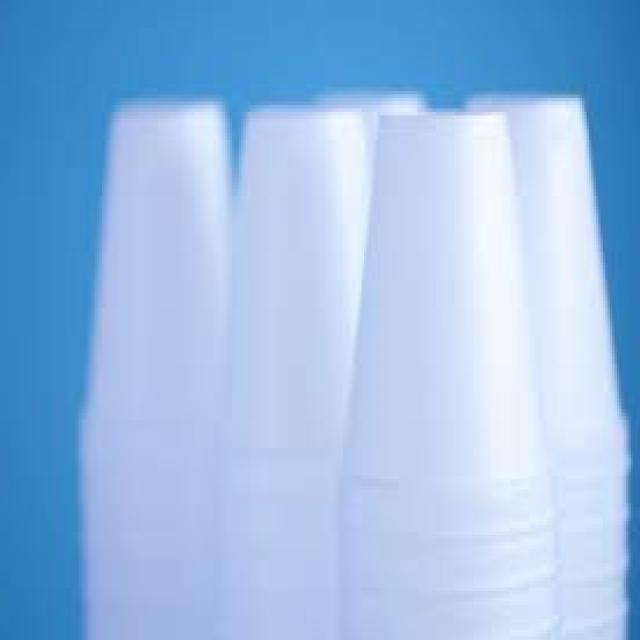paper: (350, 109, 552, 636), (83, 101, 232, 636), (362, 108, 547, 535), (230, 101, 371, 633), (466, 95, 635, 479), (88, 102, 230, 465), (230, 105, 371, 458)
